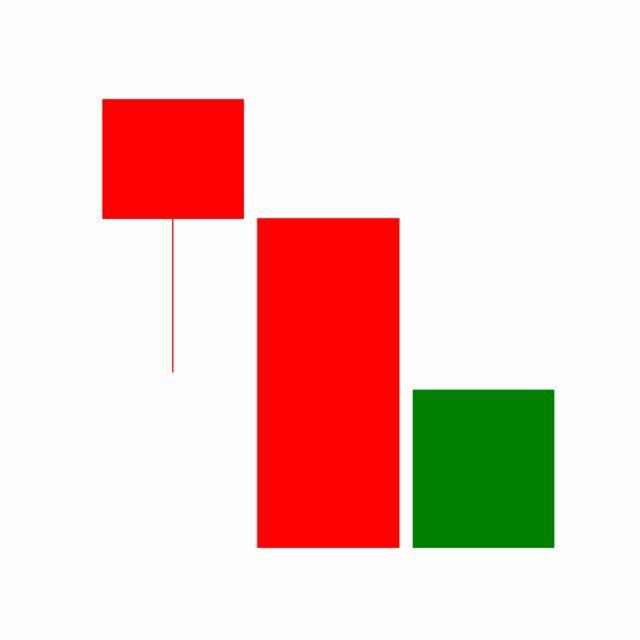Marubozu: (406, 389, 562, 550)
